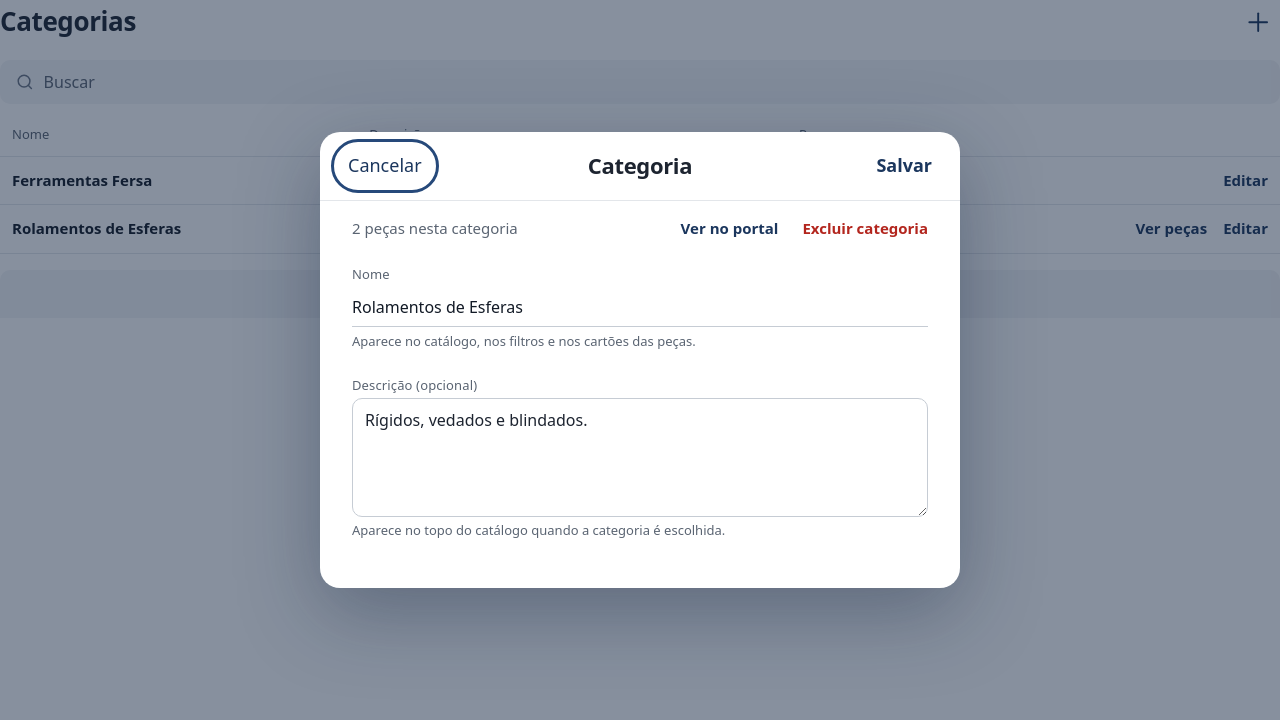
Edição de categoria › salva o nome novo
Expected: the button "Salvar" is shown, [864,144,944,188]
Replace the text in the field labelled "Nome" with "Rolamentos Rígidos de Esferas". click: [640, 307]
box: [352,287,928,327]
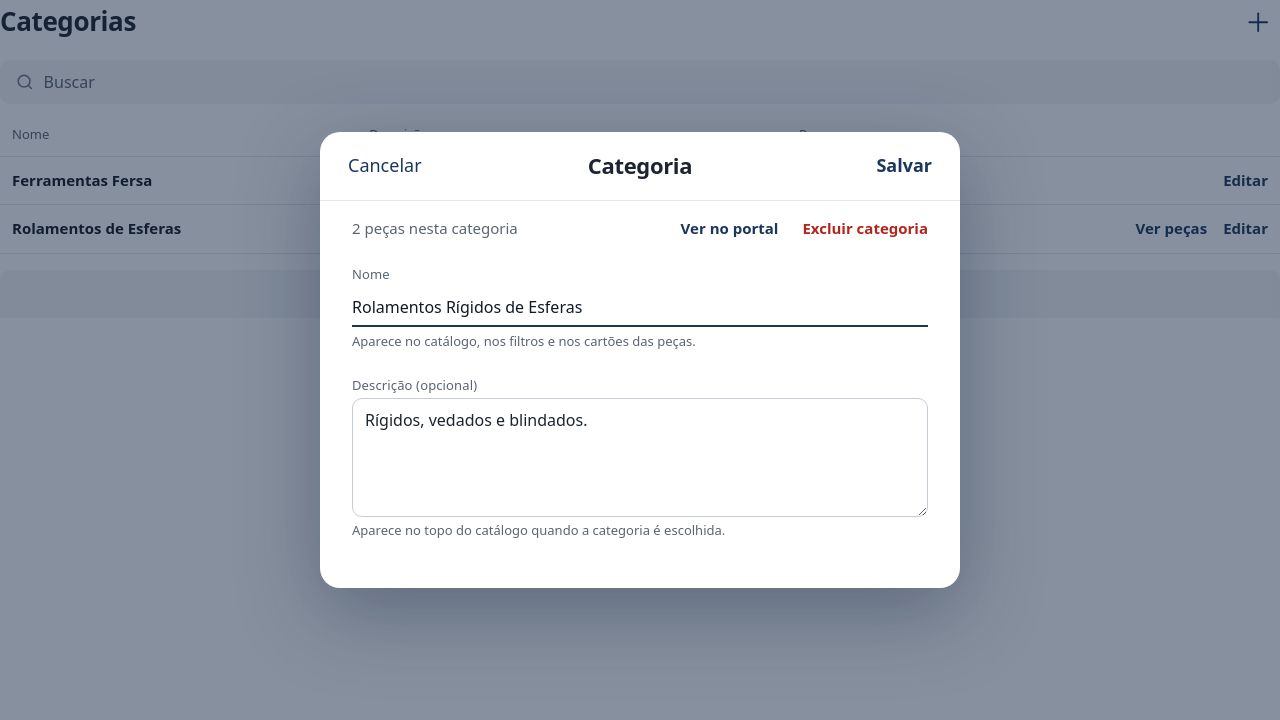
Click the button "Salvar". click: [904, 166]
box: [864,144,944,188]
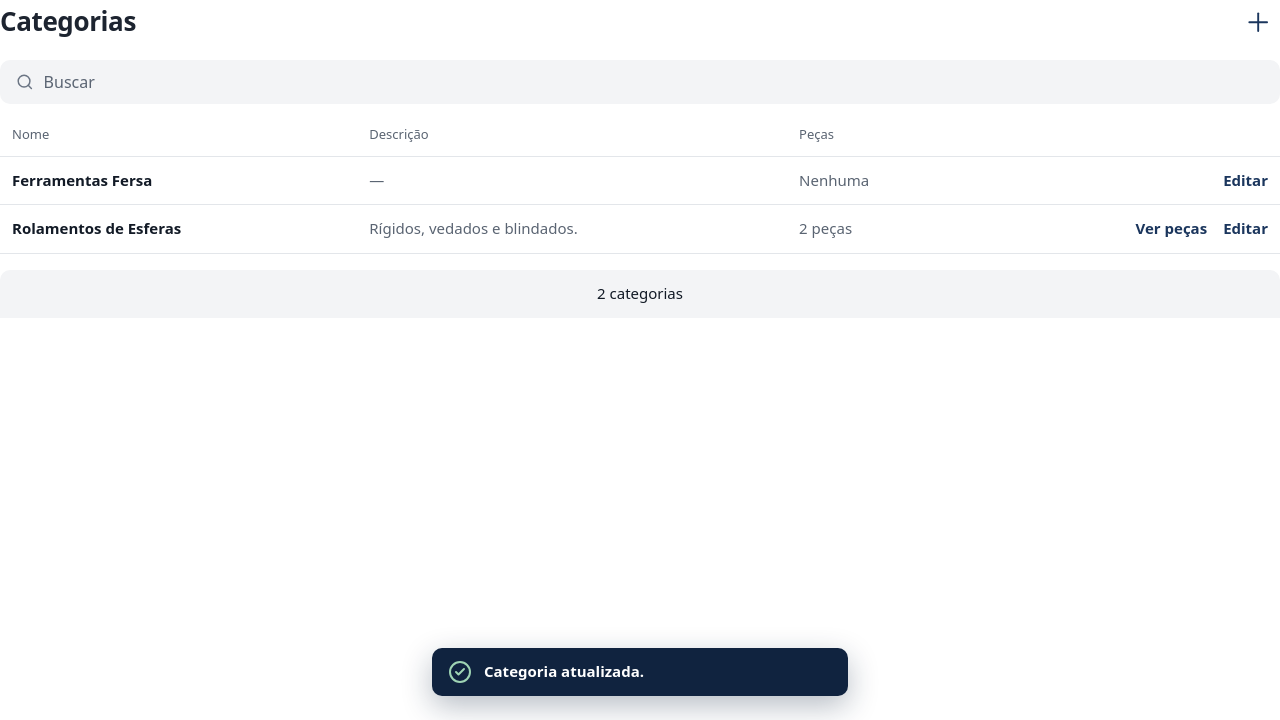
Expected: the text "Categoria atualizada." is shown, [484,660,644,684]
